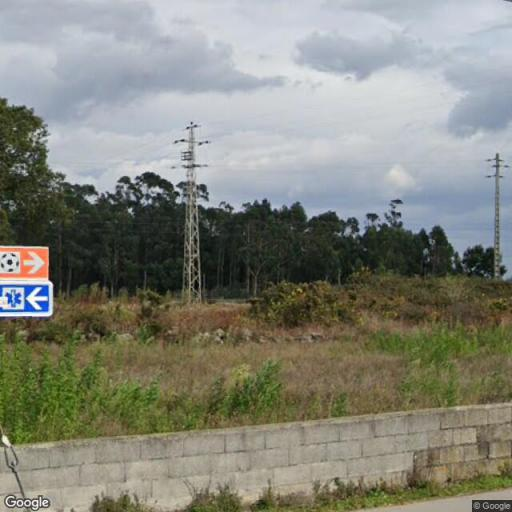mono_8: (484, 150, 508, 282)
ss_2: (170, 120, 216, 306)
